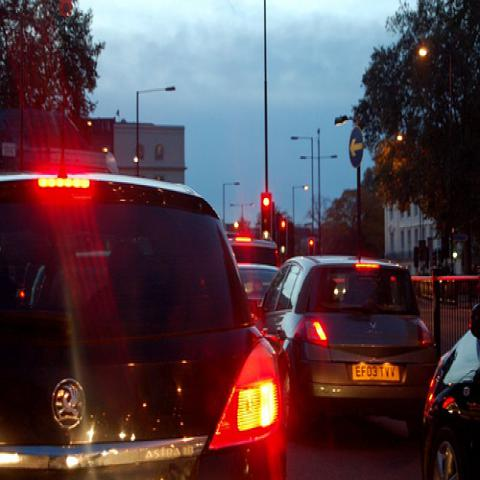car: (0, 175, 290, 475), (259, 249, 432, 428), (417, 303, 479, 467), (227, 234, 278, 317)
